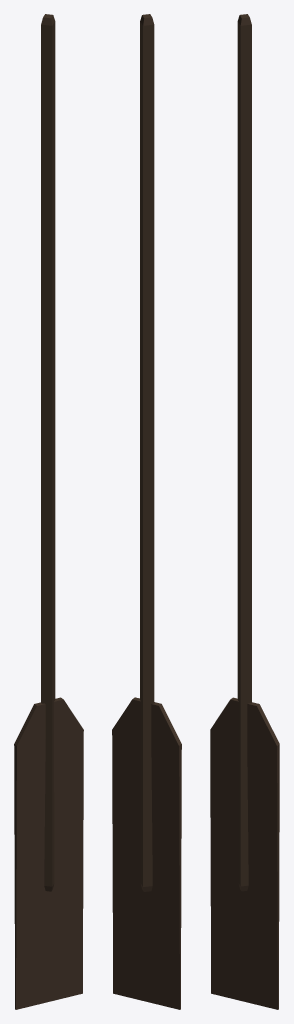
The model's file is SM_paddle.fbx.
3 renders of one model, left to right at view 1: azimuth 30°, elevation 25°; view 2: azimuth 150°, elevation 25°; view 3: azimuth 330°, elevation 25°, orthographic.
Visible parts, largest first — view 1: Line034; view 2: Line034; view 3: Line034.
Part boxes in pixels (left/top/right/bottom): Line034: left=14, top=14, right=83, bottom=1009; Line034: left=112, top=14, right=181, bottom=1009; Line034: left=210, top=14, right=279, bottom=1009.
Size of the model in its own units: 10.7 by 151 by 2.27.
